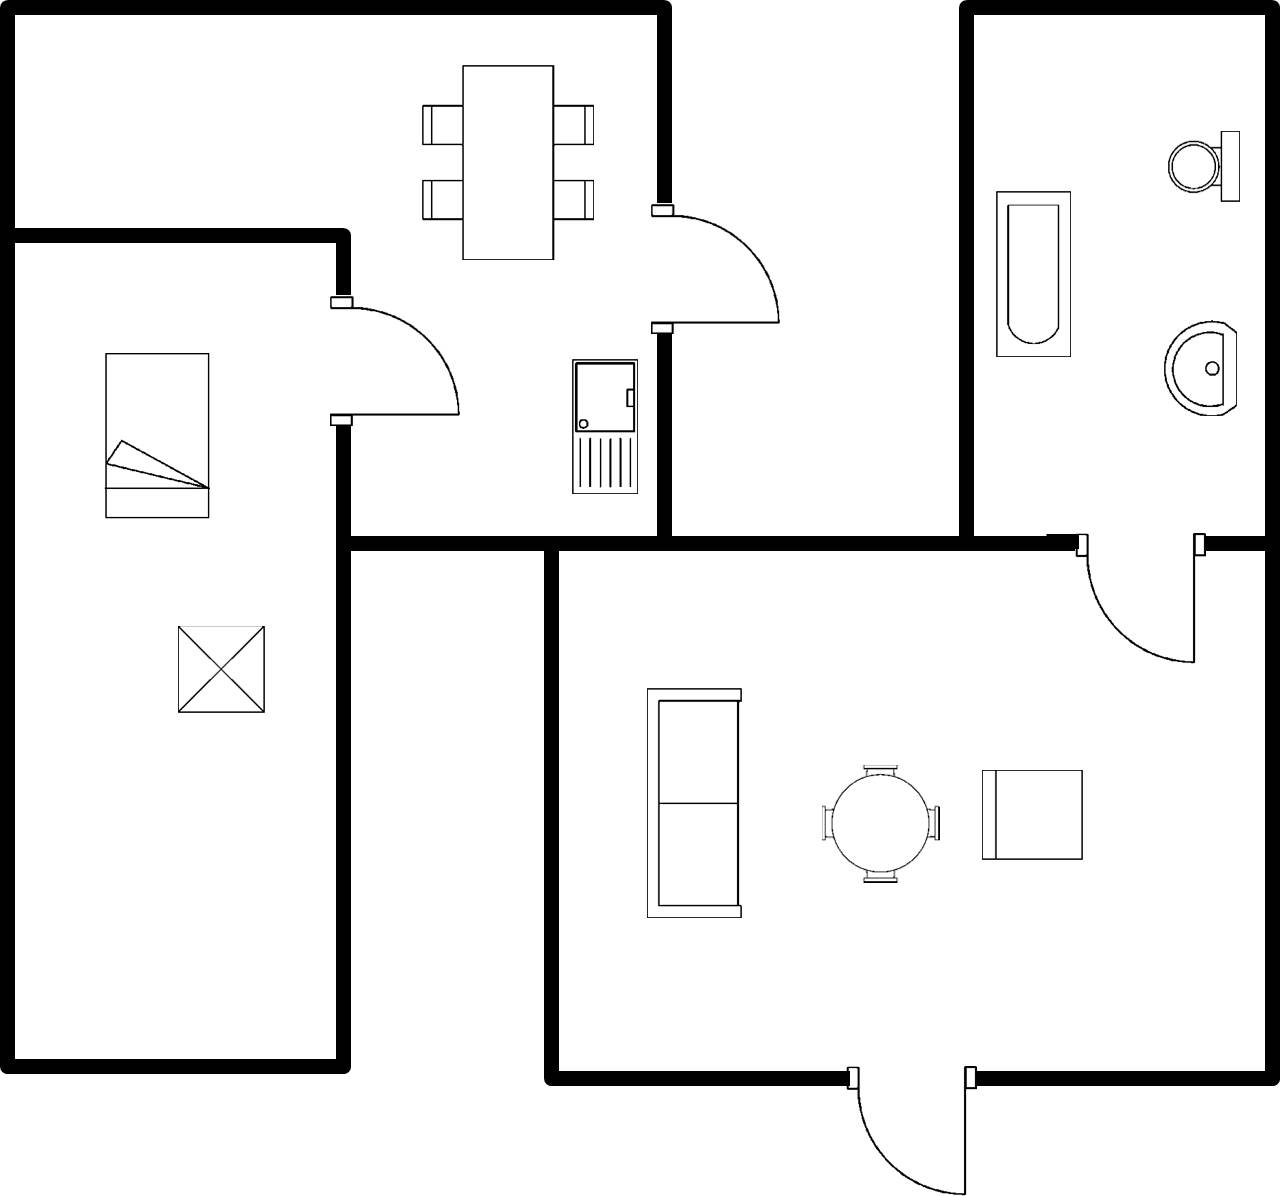bed: (92, 344, 221, 528)
coffee_table: (166, 612, 275, 724)
dining_table: (412, 54, 606, 271)
large_sink: (1158, 120, 1248, 219)
large_sofa: (635, 679, 752, 929)
round_table: (811, 755, 952, 895)
sink: (563, 352, 642, 503)
small_sink: (1153, 311, 1245, 425)
small_sofa: (973, 761, 1094, 869)
tub: (988, 180, 1082, 367)
